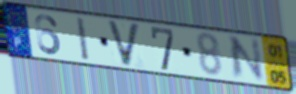6: (34, 14, 63, 57)
7: (149, 25, 176, 72)
8: (194, 31, 224, 79)
I: (75, 16, 92, 64)
N: (227, 35, 266, 82)
V: (105, 19, 143, 69)
